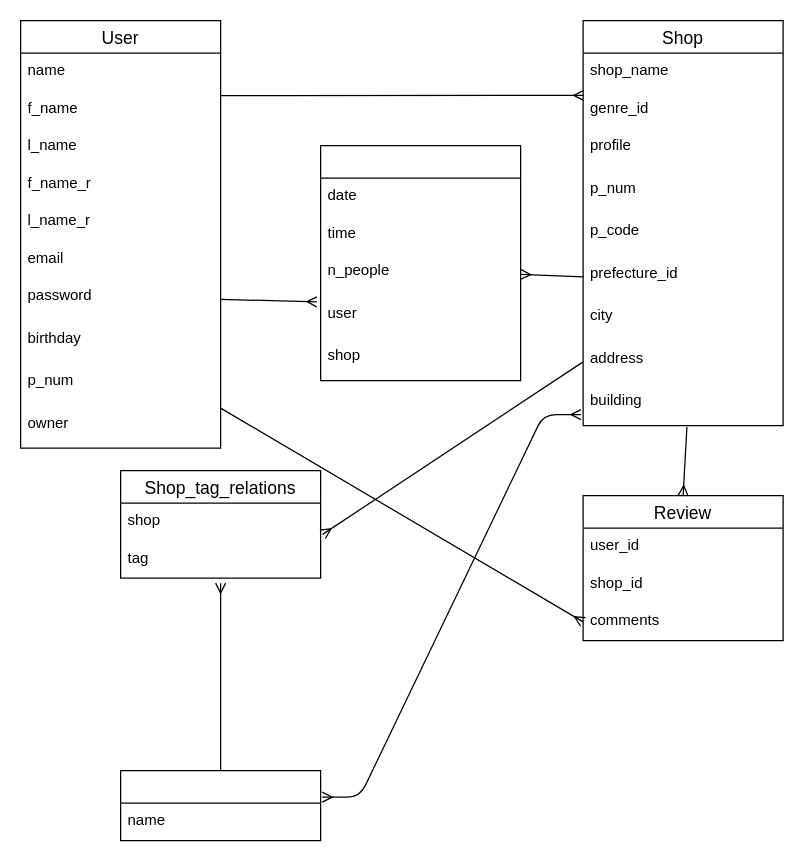
This 804x861 diagram has some shape labels left out. The shapes that lost their labels are listed below. From the top down, each one's box as (x1, y1, x2, y2) in pixels, then its label:
(319, 144, 521, 381): Reservations
(119, 769, 321, 841): Tags
